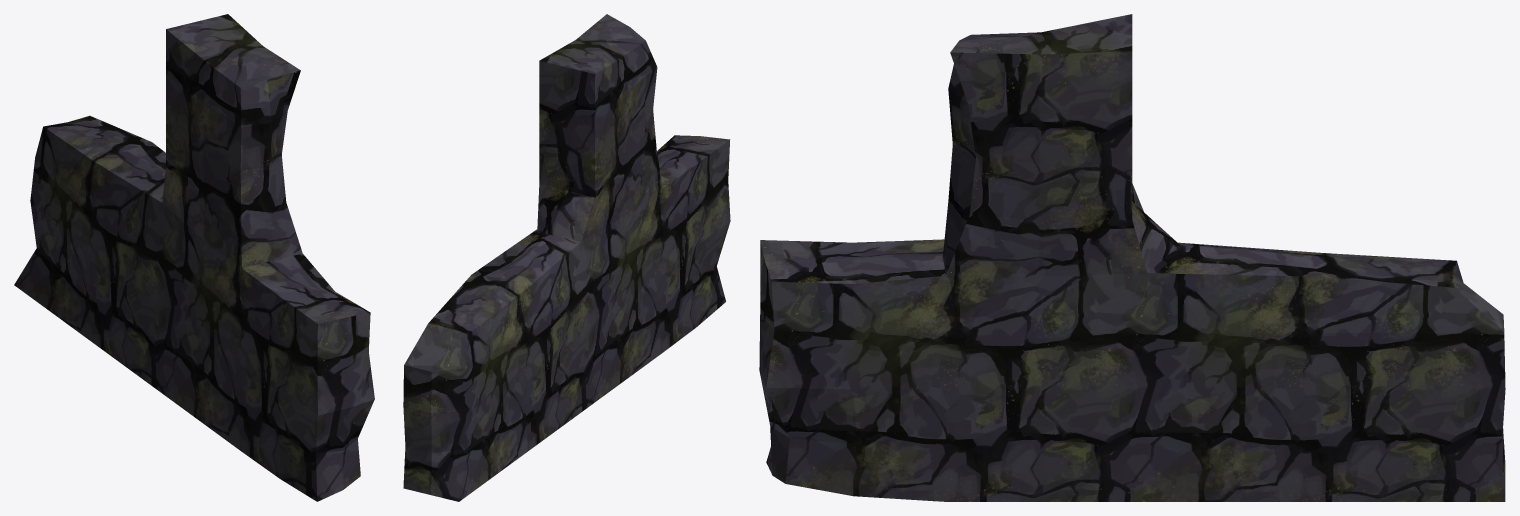
File: Ruins_04.fbx
3 renders of one model, left to right at view 1: azimuth 30°, elevation 25°; view 2: azimuth 150°, elevation 25°; view 3: azimuth 270°, elevation 25°, orthographic. The views are drawn at different scales.
Visible parts, largest first — view 1: Ruins_04; view 2: Ruins_04; view 3: Ruins_04.
Part boxes in pixels (x1,y1,x2,y2): Ruins_04: (14, 14, 374, 501); Ruins_04: (403, 14, 730, 501); Ruins_04: (759, 14, 1505, 501).
Size of the model in its own units: 0.0886 by 0.5 by 0.7501.
Materials: 1 (1 with a texture image).
